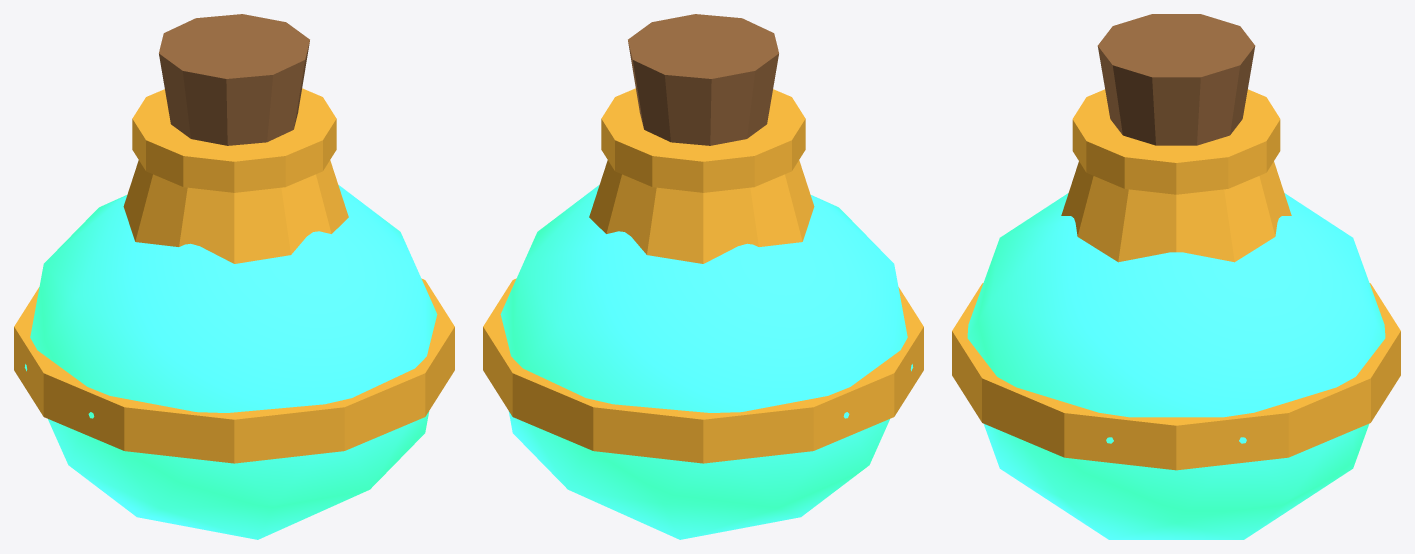
The model's file is skill_alchemy_flask.glb.
3 renders of one model, left to right at view 1: azimuth 30°, elevation 25°; view 2: azimuth 150°, elevation 25°; view 3: azimuth 270°, elevation 25°, orthographic.
Parts seen in each view (by area): view 1: PotionBody, BrassCollar, CorkStopper, BrassCollar.001, BrassCollar.002; view 2: PotionBody, BrassCollar, CorkStopper, BrassCollar.001, BrassCollar.002; view 3: PotionBody, BrassCollar, CorkStopper, BrassCollar.001, BrassCollar.002.
Boxes of the visible parts, left/top/right/bottom form: PotionBody: left=24, top=185, right=437, bottom=539; BrassCollar: left=14, top=278, right=454, bottom=463; CorkStopper: left=159, top=14, right=309, bottom=145; BrassCollar.001: left=123, top=160, right=348, bottom=263; BrassCollar.002: left=132, top=88, right=336, bottom=192; PotionBody: left=500, top=185, right=913, bottom=539; BrassCollar: left=483, top=278, right=923, bottom=463; CorkStopper: left=628, top=14, right=778, bottom=145; BrassCollar.001: left=589, top=160, right=814, bottom=263; BrassCollar.002: left=601, top=88, right=805, bottom=192; PotionBody: left=967, top=193, right=1385, bottom=539; BrassCollar: left=952, top=283, right=1400, bottom=470; CorkStopper: left=1097, top=14, right=1255, bottom=145; BrassCollar.001: left=1061, top=161, right=1291, bottom=262; BrassCollar.002: left=1072, top=89, right=1280, bottom=194.
Bounding box in the file's own units: 0.41 × 0.4848 × 0.41.
